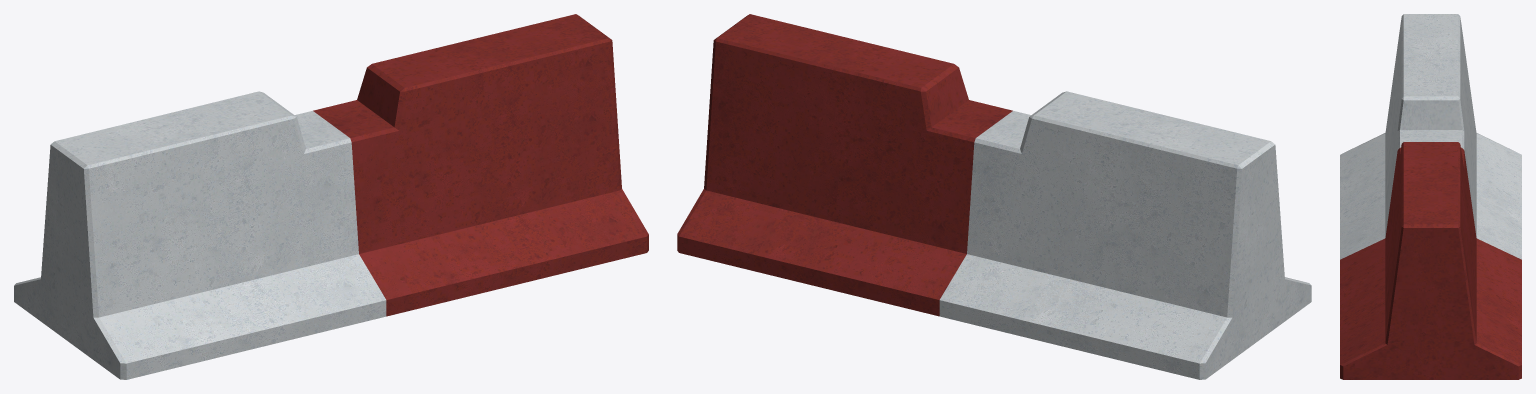
Rendered from RedWhite_Barrier.fbx.
3 views of the same model, side by side, from view 1: azimuth 30°, elevation 25°; view 2: azimuth 150°, elevation 25°; view 3: azimuth 270°, elevation 25° (orthographic). The views are drawn at different scales.
Parts seen in each view (by area): view 1: RedWhite_Barrier; view 2: RedWhite_Barrier; view 3: RedWhite_Barrier.
Boxes of the visible parts, <box> form: RedWhite_Barrier: <box>14,14,648,379</box>; RedWhite_Barrier: <box>677,14,1311,379</box>; RedWhite_Barrier: <box>1340,14,1521,379</box>.
Bounding box in the file's own units: 2.75 × 0.9287 × 0.9921.
